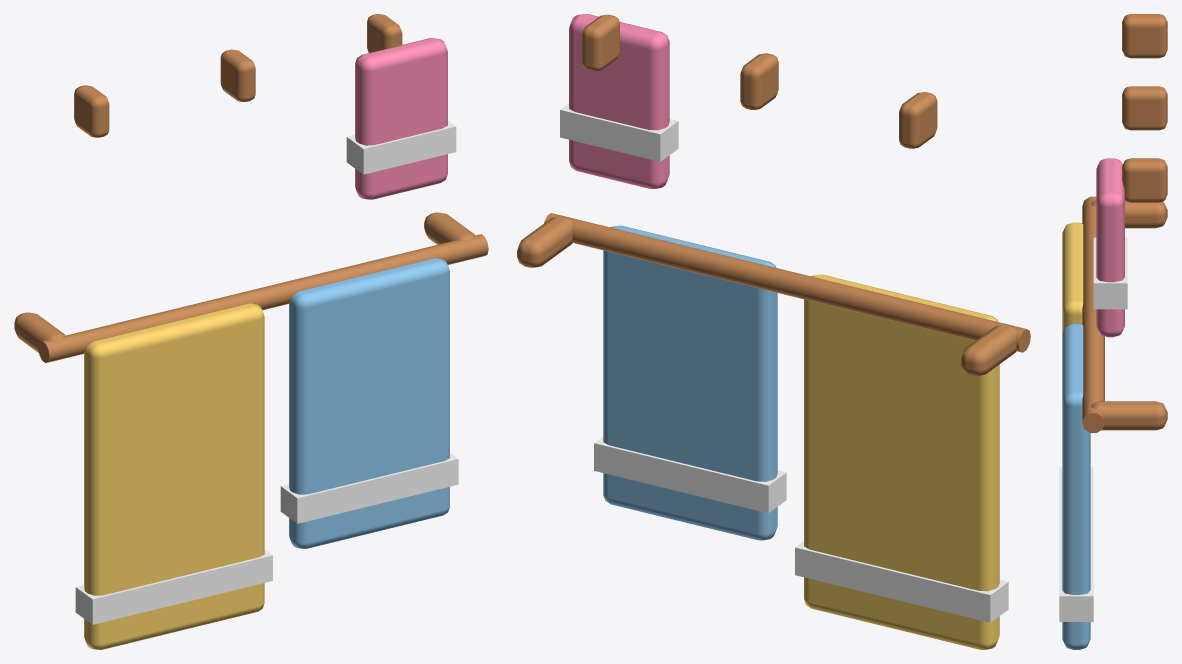
The model's file is towel.glb.
3 renders of one model, left to right at view 1: azimuth 30°, elevation 25°; view 2: azimuth 150°, elevation 25°; view 3: azimuth 270°, elevation 25°, orthographic. The views are drawn at different scales.
Bounding box in the file's own units: 0.9 × 1.03 × 0.19.
